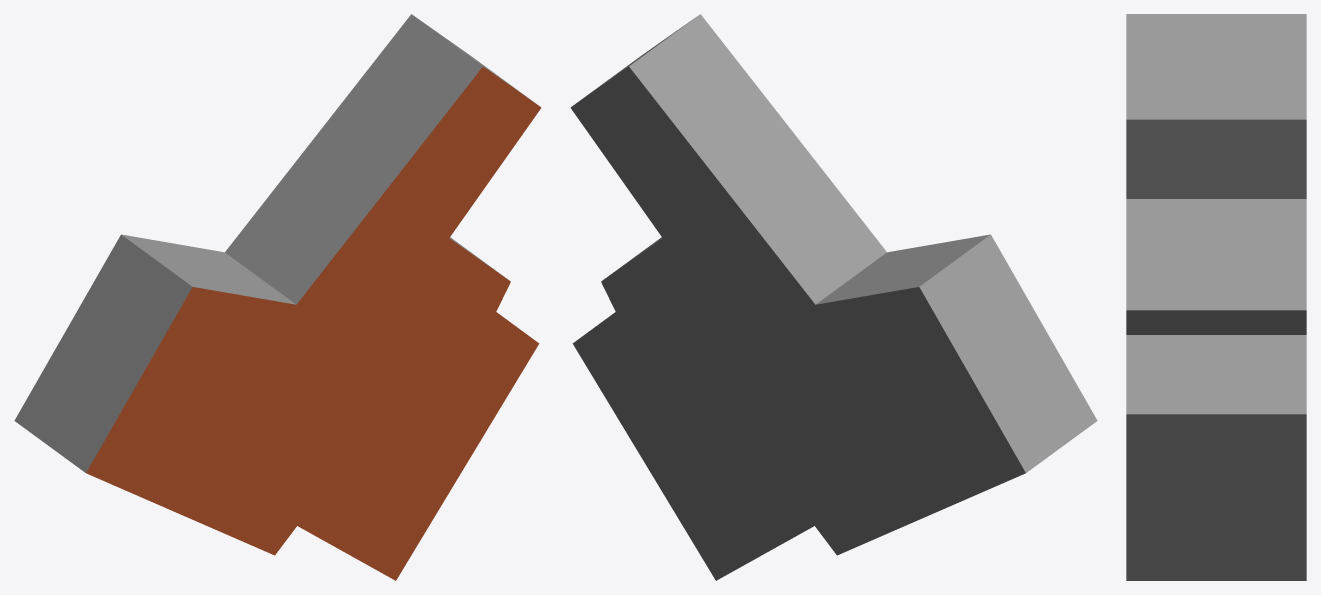
File: construction_3972_assumed_A_Casa_h6m.obj
3 renders of one model, left to right at view 1: azimuth 30°, elevation 25°; view 2: azimuth 150°, elevation 25°; view 3: azimuth 270°, elevation 25°, orthographic. The views are drawn at different scales.
Parts seen in each view (by area): view 1: construction_3972_assumed_A_Casa; view 2: construction_3972_assumed_A_Casa; view 3: construction_3972_assumed_A_Casa.
Boxes of the visible parts, left/top/right/bottom form: construction_3972_assumed_A_Casa: left=14, top=14, right=541, bottom=580; construction_3972_assumed_A_Casa: left=570, top=14, right=1097, bottom=580; construction_3972_assumed_A_Casa: left=1126, top=14, right=1306, bottom=580.
Size of the model in its own units: 22.04 by 22.8 by 6.
